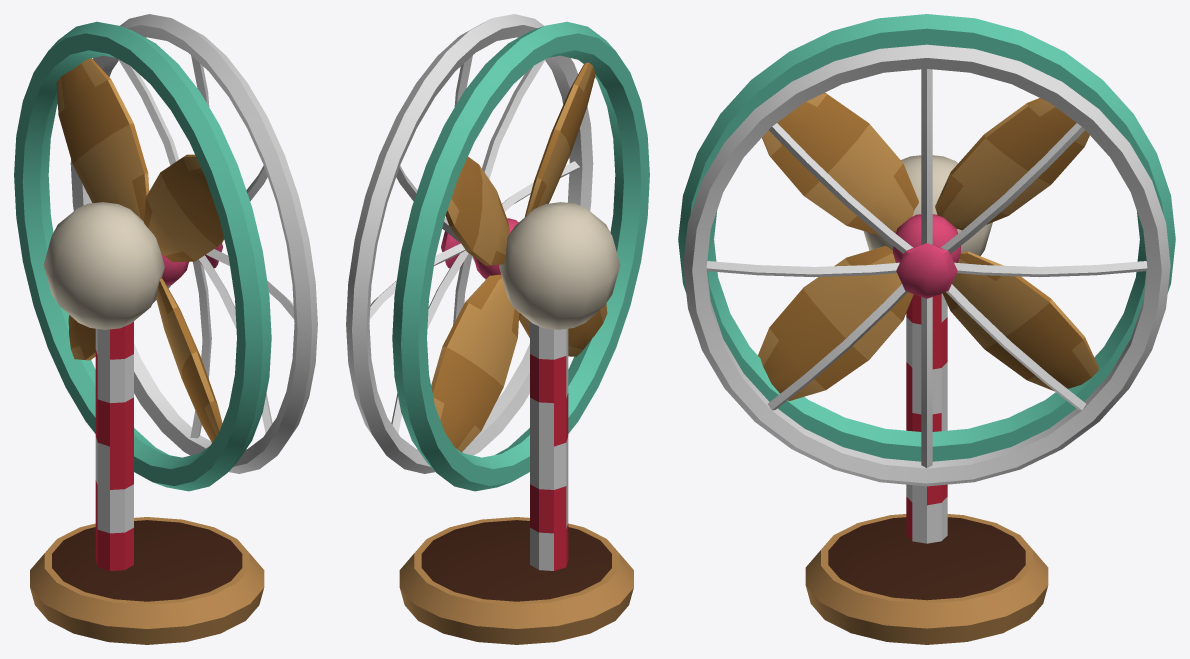
Rendered from fan.glb.
3 renders of one model, left to right at view 1: azimuth 30°, elevation 25°; view 2: azimuth 150°, elevation 25°; view 3: azimuth 270°, elevation 25°, orthographic. The views are drawn at different scales.
Visible parts, largest first — view 1: Body, Blades; view 2: Body, Blades; view 3: Body, Blades.
Boxes of the visible parts, bbox=[...] form: Body: bbox=[14, 14, 317, 644]; Blades: bbox=[56, 58, 224, 442]; Body: bbox=[346, 14, 649, 644]; Blades: bbox=[431, 62, 607, 452]; Body: bbox=[678, 14, 1175, 644]; Blades: bbox=[758, 93, 1098, 400].
Bounding box in the file's own units: 0.96 × 2.49 × 1.94.
